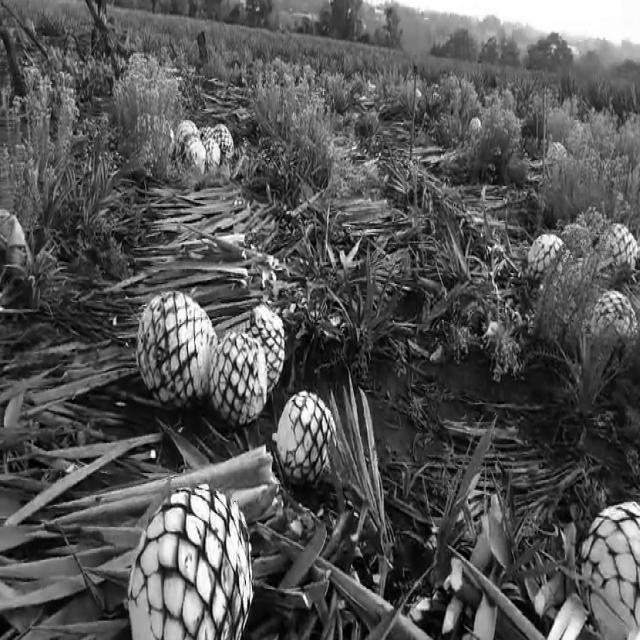agave: (124, 480, 252, 640), (136, 284, 217, 424), (578, 495, 640, 640), (270, 386, 336, 486), (209, 327, 267, 423), (238, 305, 286, 397), (590, 288, 636, 362), (528, 230, 572, 288), (598, 224, 640, 282), (179, 134, 206, 176), (174, 116, 198, 160), (216, 125, 236, 158), (205, 134, 221, 172)
